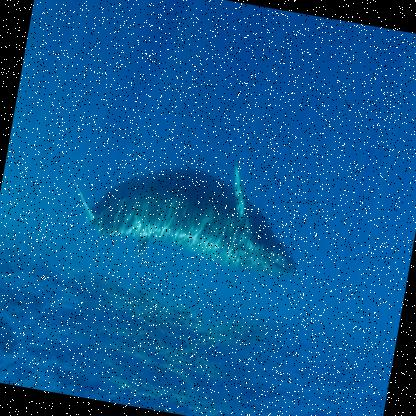blue_whale: (56, 99, 320, 300)
